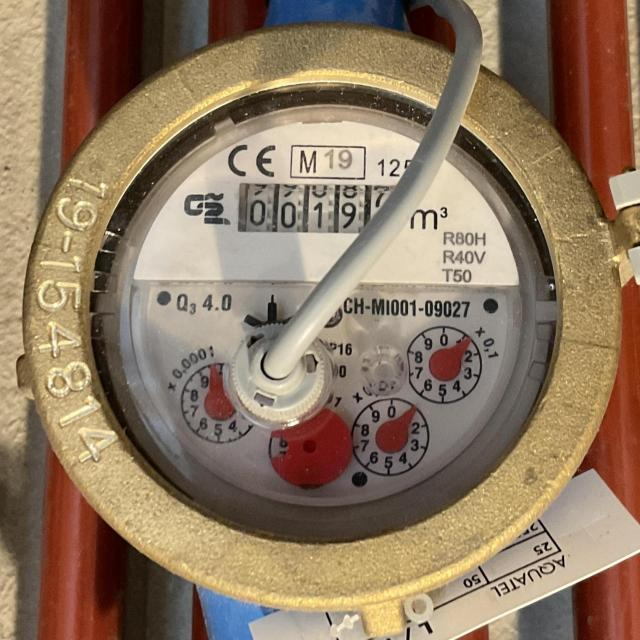gaz_meter: (111, 108, 559, 514)
indication: (232, 180, 406, 234)
